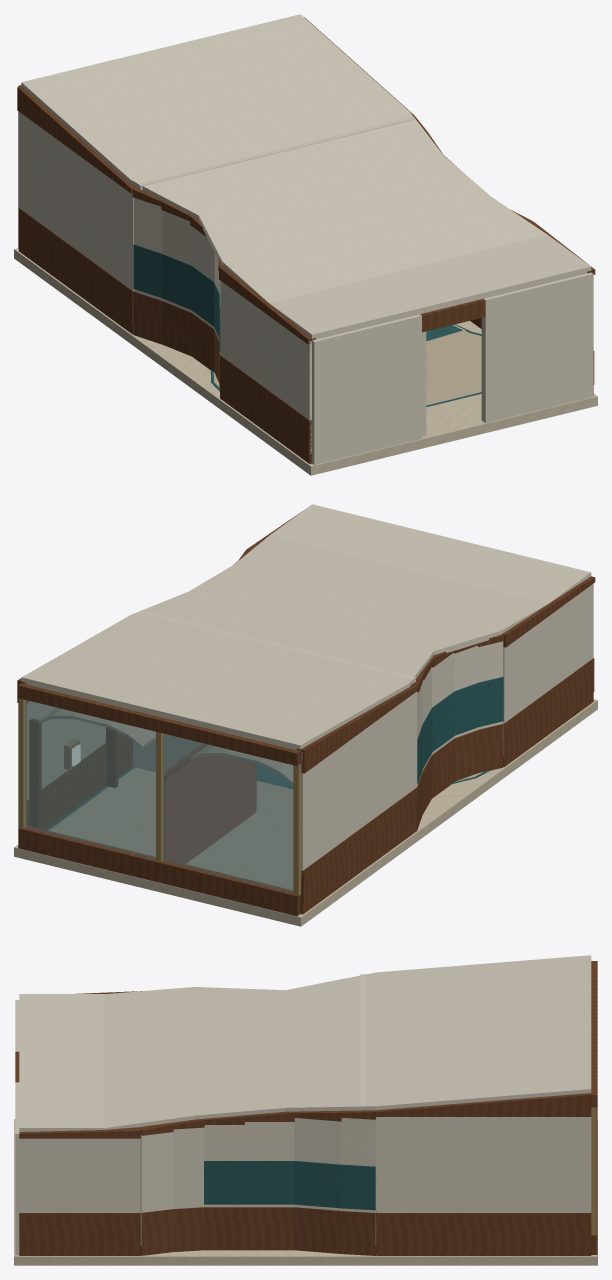
File: shell.glb
The picture shows the model from 3 angles, top to bottom: view 1: azimuth 30°, elevation 25°; view 2: azimuth 150°, elevation 25°; view 3: azimuth 270°, elevation 25°; orthographic projection.
Parts seen in each view (by area): view 1: SUI_Runtime_ivory_enamel, SUI_Runtime_warm_walnut, SUI_Runtime_warm_stone, SUI_Runtime_teal_weave, SUI_Runtime_oatmeal_weave; view 2: SUI_Runtime_ivory_enamel, SUI_Runtime_warm_walnut, SUI_Runtime_SuiteHospitalityGlass, SUI_Runtime_oatmeal_weave, SUI_Runtime_clay_weave, SUI_Runtime_warm_stone, SUI_Runtime_teal_weave, SUI_Runtime_champagne_metal; view 3: SUI_Runtime_ivory_enamel, SUI_Runtime_warm_walnut, SUI_Runtime_teal_weave, SUI_Runtime_warm_stone, SUI_Runtime_champagne_metal.
Boxes of the visible parts, bbox=[...] form: SUI_Runtime_ivory_enamel: bbox=[19, 14, 593, 464]; SUI_Runtime_warm_walnut: bbox=[17, 17, 595, 463]; SUI_Runtime_warm_stone: bbox=[14, 248, 597, 475]; SUI_Runtime_teal_weave: bbox=[133, 244, 481, 406]; SUI_Runtime_oatmeal_weave: bbox=[213, 324, 481, 405]; SUI_Runtime_ivory_enamel: bbox=[21, 504, 593, 885]; SUI_Runtime_warm_walnut: bbox=[17, 511, 595, 916]; SUI_Runtime_SuiteHospitalityGlass: bbox=[25, 700, 293, 892]; SUI_Runtime_oatmeal_weave: bbox=[39, 708, 482, 889]; SUI_Runtime_clay_weave: bbox=[164, 756, 256, 863]; SUI_Runtime_warm_stone: bbox=[14, 699, 597, 926]; SUI_Runtime_teal_weave: bbox=[46, 677, 503, 830]; SUI_Runtime_champagne_metal: bbox=[18, 698, 300, 895]; SUI_Runtime_ivory_enamel: bbox=[15, 955, 591, 1254]; SUI_Runtime_warm_walnut: bbox=[15, 961, 597, 1255]; SUI_Runtime_teal_weave: bbox=[204, 1161, 375, 1210]; SUI_Runtime_warm_stone: bbox=[14, 1119, 597, 1265]; SUI_Runtime_champagne_metal: bbox=[591, 1107, 596, 1235].
Bounding box in the file's own units: 7.2 × 4.26 × 12.9.
Materials: 9 (7 with a texture image).
